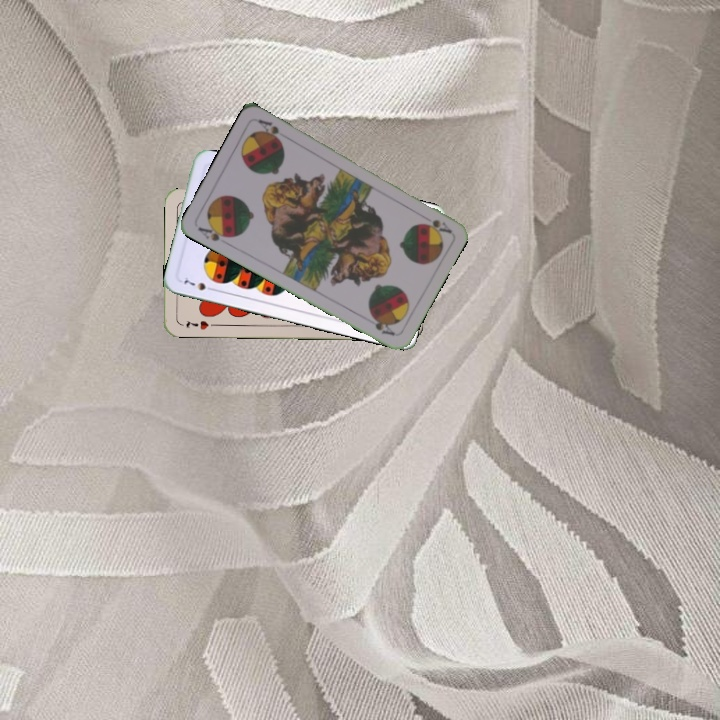H7: (182, 316, 211, 332)
S7: (180, 273, 218, 294)
SA: (194, 220, 234, 247), (416, 210, 454, 236)
